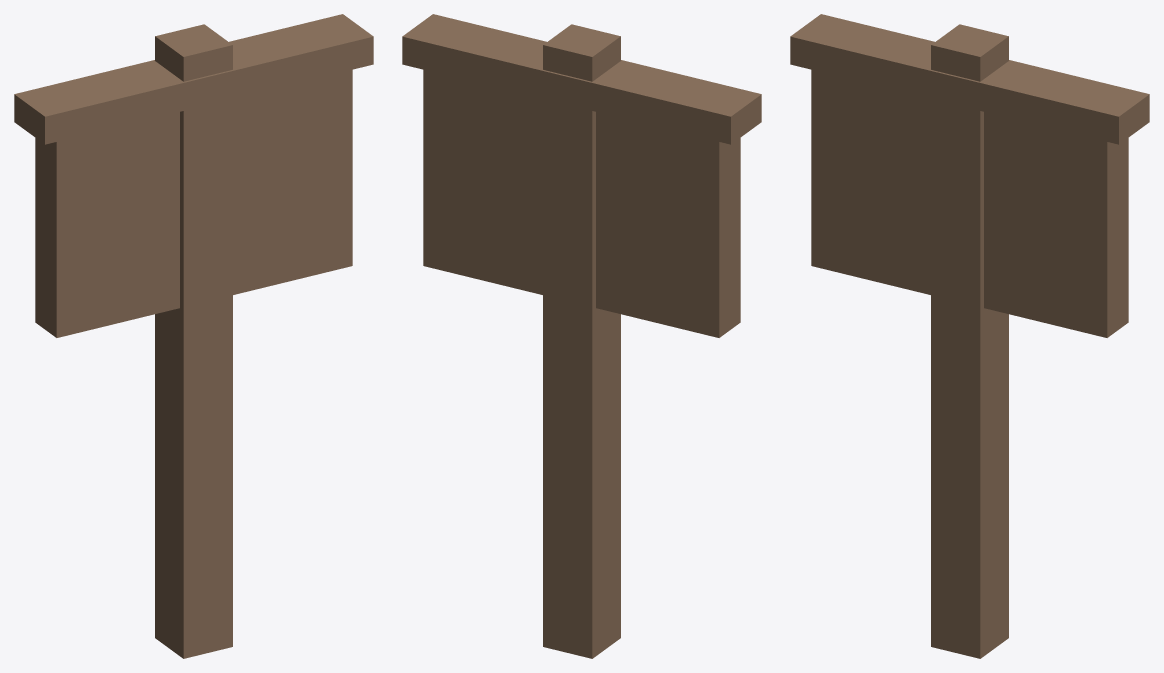
Rendered from notice_post.glb.
3 renders of one model, left to right at view 1: azimuth 30°, elevation 25°; view 2: azimuth 150°, elevation 25°; view 3: azimuth 330°, elevation 25°, orthographic.
Parts seen in each view (by area): view 1: notice_post_0; view 2: notice_post_0; view 3: notice_post_0.
Boxes of the visible parts, left/top/right/bottom form: notice_post_0: left=14, top=14, right=373, bottom=658; notice_post_0: left=402, top=14, right=761, bottom=658; notice_post_0: left=790, top=14, right=1149, bottom=658.
Bounding box in the file's own units: 0.8 × 1.4 × 0.13.
